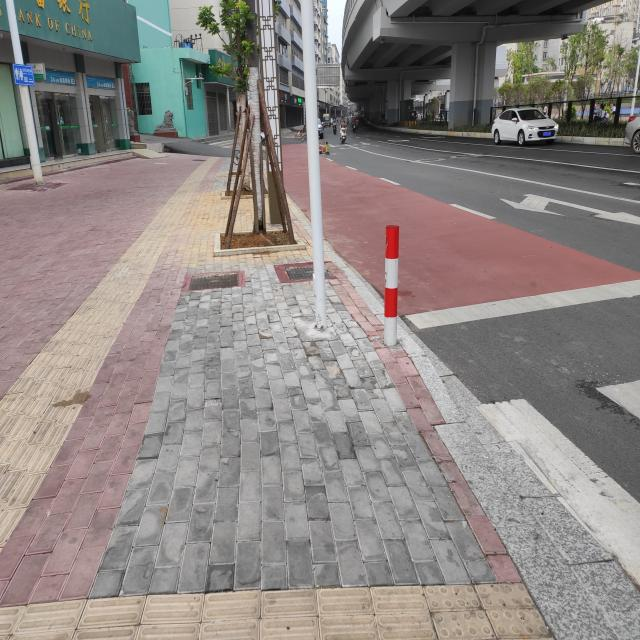car: (491, 107, 558, 147), (623, 109, 640, 154), (318, 118, 324, 140)
motorbike: (339, 124, 347, 143), (352, 120, 357, 132)
pole: (301, 4, 327, 329), (5, 1, 46, 184)
reflective_cone: (324, 140, 330, 154), (322, 141, 326, 154), (318, 142, 322, 155)
truck: (322, 112, 331, 128)
warning_column: (374, 220, 404, 347)
